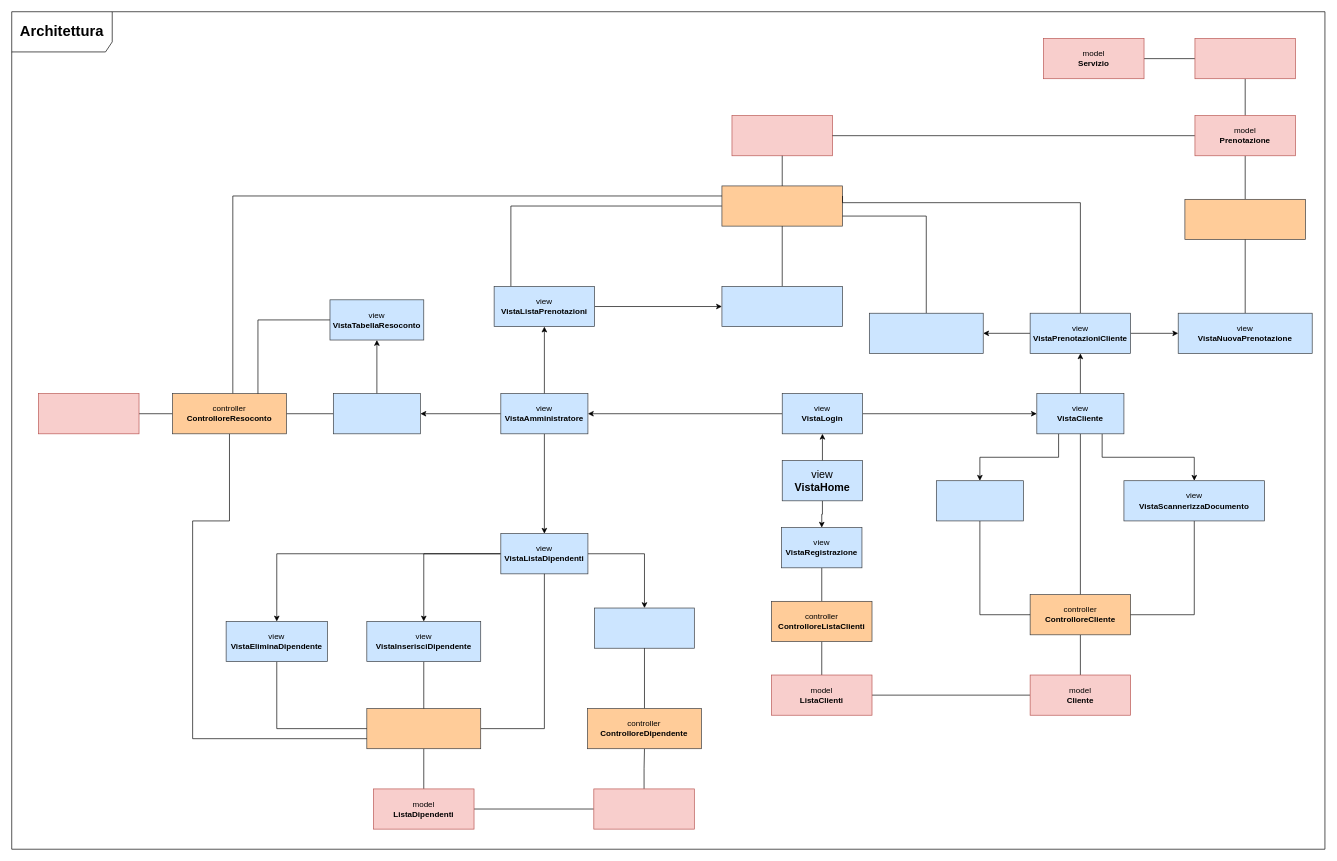
The diagram is 1337 pixels wide and 861 high, and some of its shapes have lost their labels. Here are the shapes that lost their labels. From the top down, the box of each, then its label:
(1194, 38, 1295, 79): model ListaServizi
(731, 115, 832, 156): model ListaPrenotazioni
(721, 185, 843, 226): controller ControlloreListaPrenotazioni
(1184, 199, 1305, 240): controller ControllorePrenotazione
(721, 286, 843, 327): view VistaListaPrenotazioniAdmin
(869, 313, 983, 353): view VistaEliminaPrenotazione
(38, 393, 139, 434): model Resoconto
(333, 393, 420, 434): view VistaResoconto
(936, 480, 1023, 521): view VistaEliminaProfilo
(594, 607, 694, 648): view VistaModificaDipendente
(366, 708, 481, 749): controller ControlloreListaDipendenti
(593, 788, 694, 829): model Dipendente
